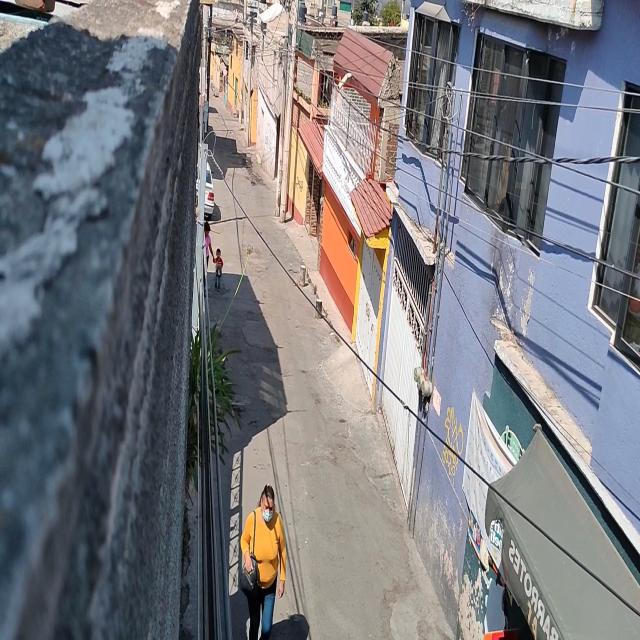adult: (240, 482, 287, 640)
